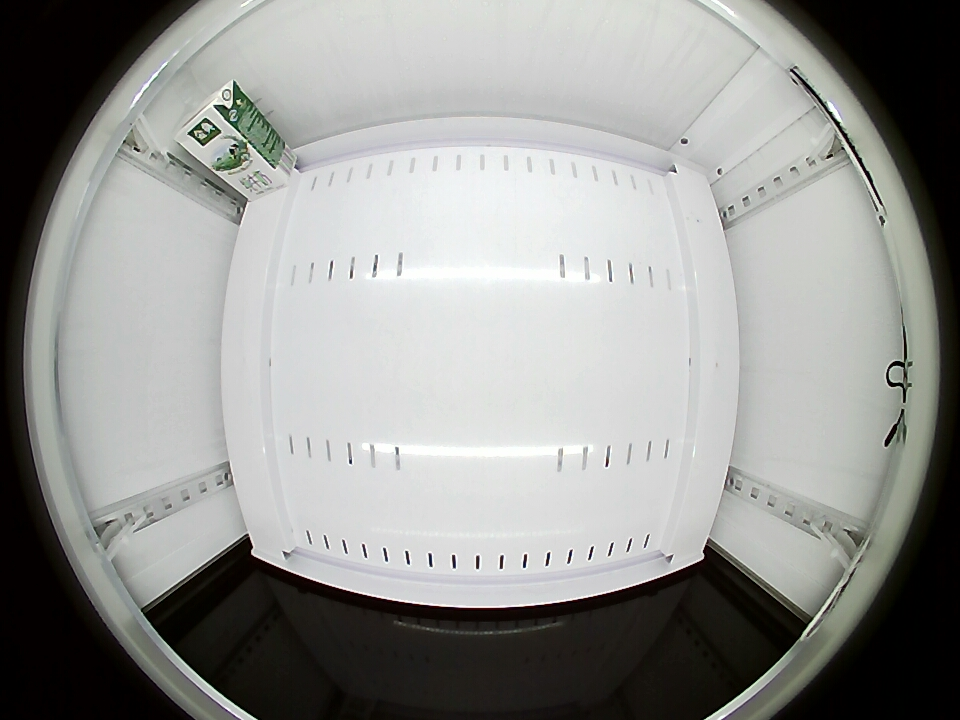jindian: (173, 78, 253, 166)
